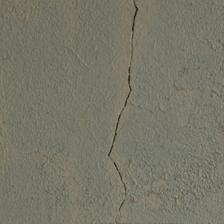Crack: (52, 2, 94, 213)
